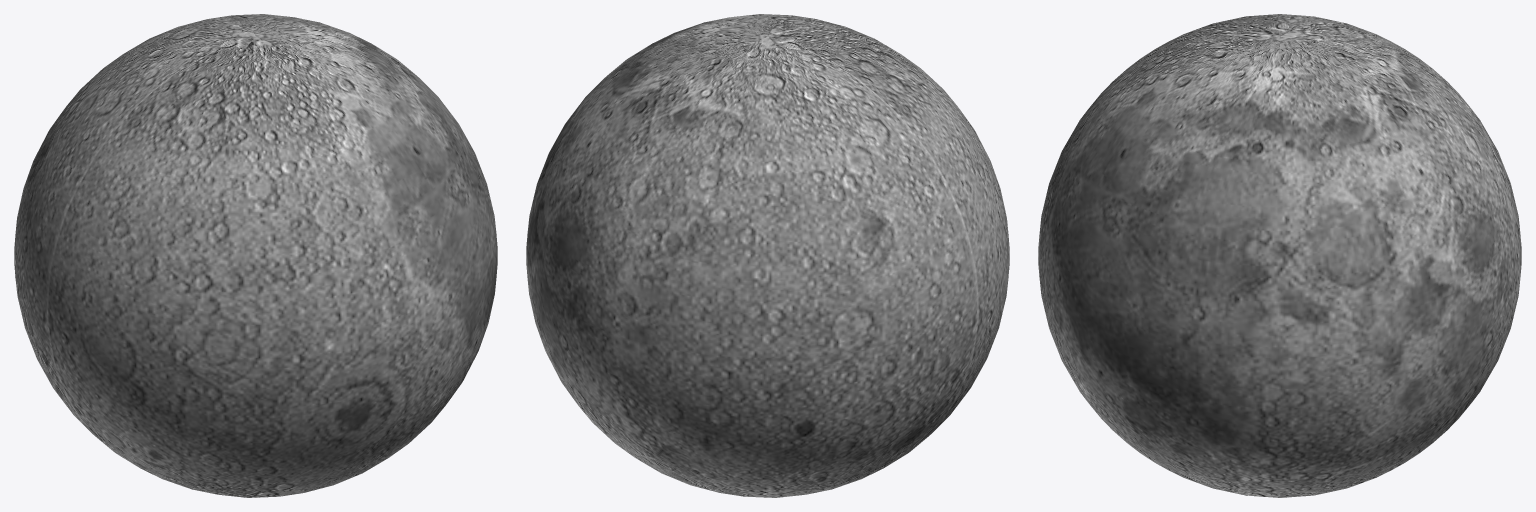
The model's file is moon.FBX.
The picture shows the model from 3 angles, left to right: view 1: azimuth 30°, elevation 25°; view 2: azimuth 150°, elevation 25°; view 3: azimuth 270°, elevation 25°; orthographic projection.
Parts seen in each view (by area): view 1: GeoSphere003; view 2: GeoSphere003; view 3: GeoSphere003.
Boxes of the visible parts, <box> form: GeoSphere003: <box>14,14,497,497</box>; GeoSphere003: <box>526,14,1009,497</box>; GeoSphere003: <box>1038,14,1521,497</box>.
Size of the model in its own units: 19.97 by 20 by 19.96.
1 material, 1 textured.
